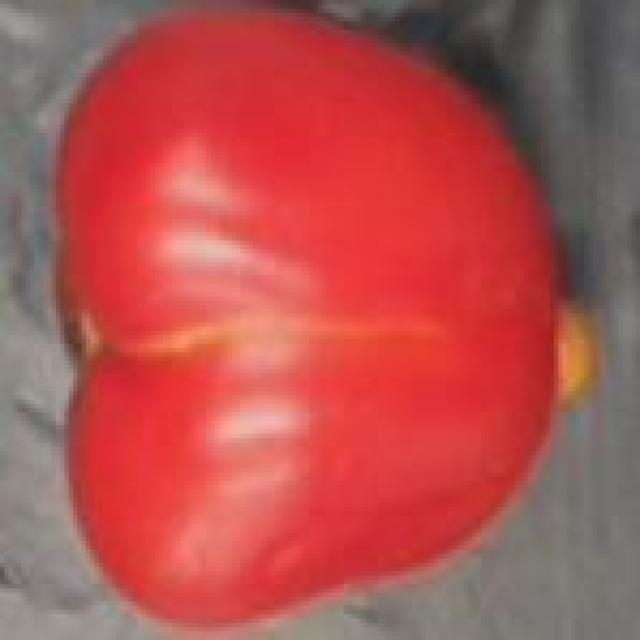overripe tomato: (34, 0, 597, 640)
